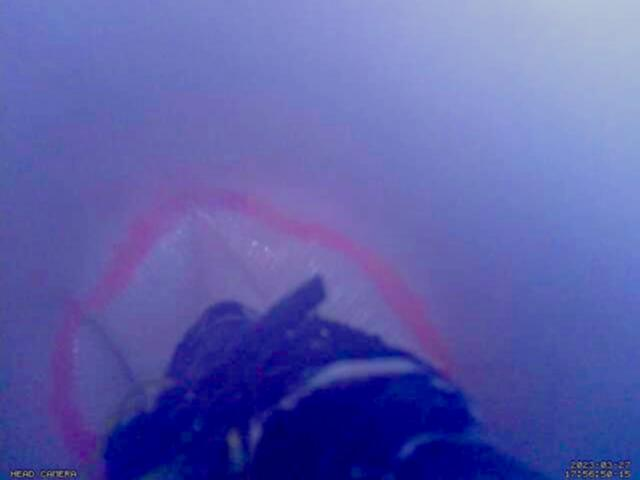head: (48, 184, 457, 464)
